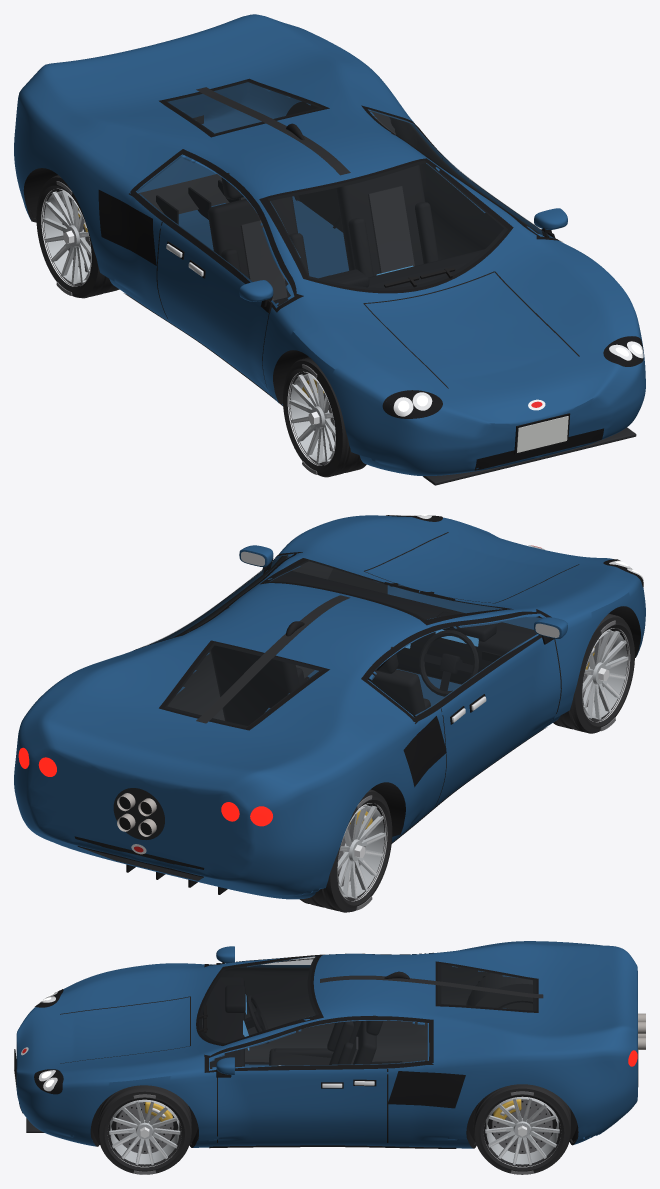
File: utopia.glb
The picture shows the model from 3 angles, top to bottom: view 1: azimuth 30°, elevation 25°; view 2: azimuth 150°, elevation 25°; view 3: azimuth 270°, elevation 25°; orthographic projection. The views are drawn at different scales.
Visible parts, largest first — view 1: Body, Wheel_FR, Wheel_RR; view 2: Body, Wheel_RR, Wheel_FR; view 3: Body, Wheel_RL, Wheel_FL.
Boxes of the visible parts, x1,y1,x2,y2 form: Body: (14, 14, 645, 485); Wheel_FR: (283, 357, 366, 477); Wheel_RR: (36, 175, 119, 298); Body: (14, 514, 645, 899); Wheel_RR: (300, 789, 392, 912); Wheel_FR: (553, 613, 634, 733); Body: (14, 941, 645, 1148); Wheel_RL: (473, 1084, 570, 1174); Wheel_FL: (98, 1085, 191, 1174).
Bounding box in the file's own units: 2.13 × 1.21 × 4.68.
